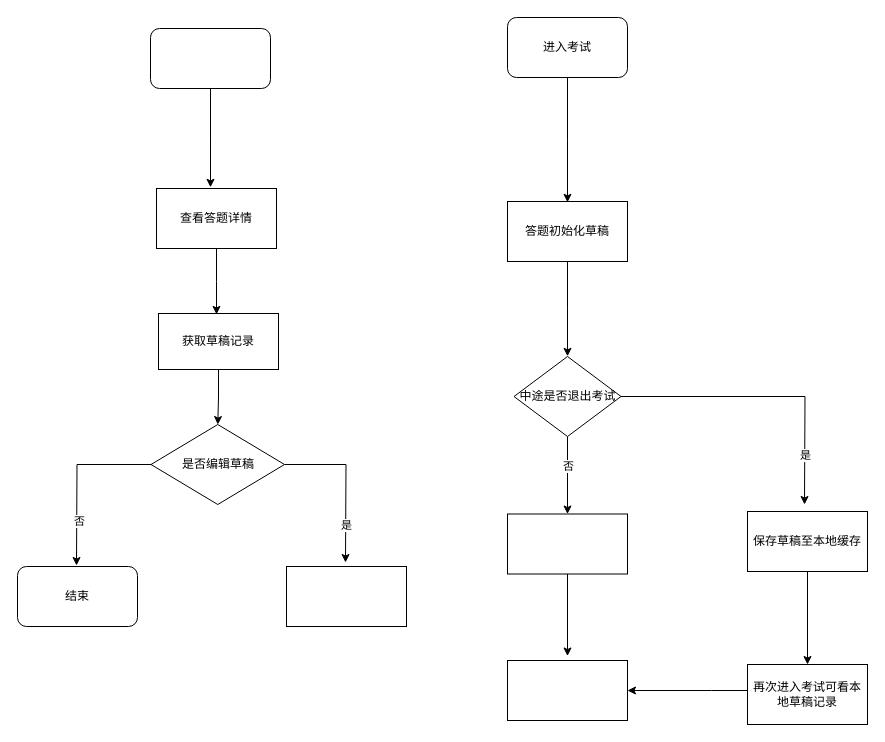
This 885x742 diagram has some shape labels left out. Each missing label, with the centre of its shape:
保存本场所有考试的草稿记录: point (567, 690)
保存该条草稿记录: point (346, 596)
提交答题完成考试: point (567, 543)
进入答题记录: point (210, 58)
